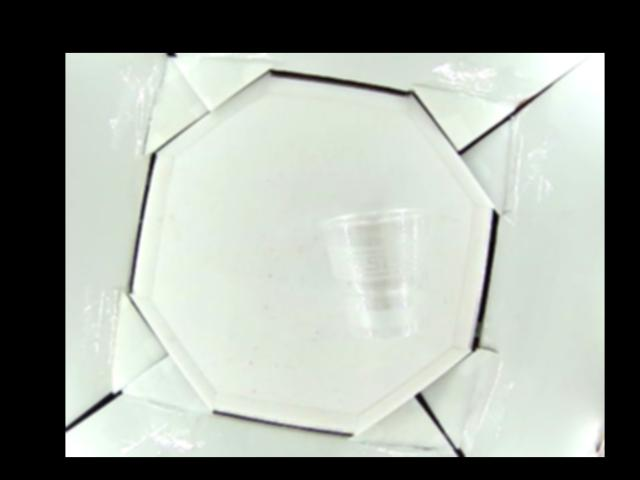Cup: (326, 207, 426, 338)
